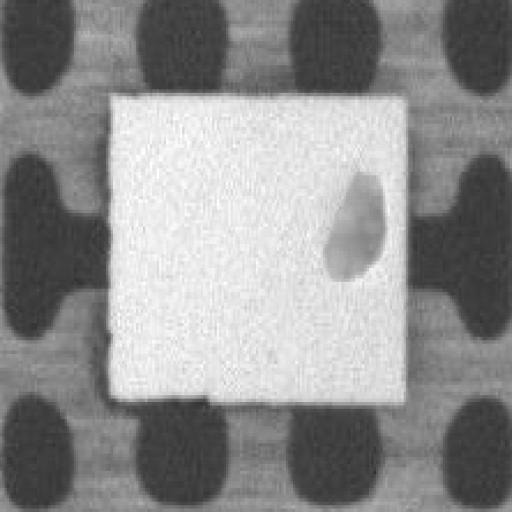DIE_INK: (321, 161, 385, 282)
